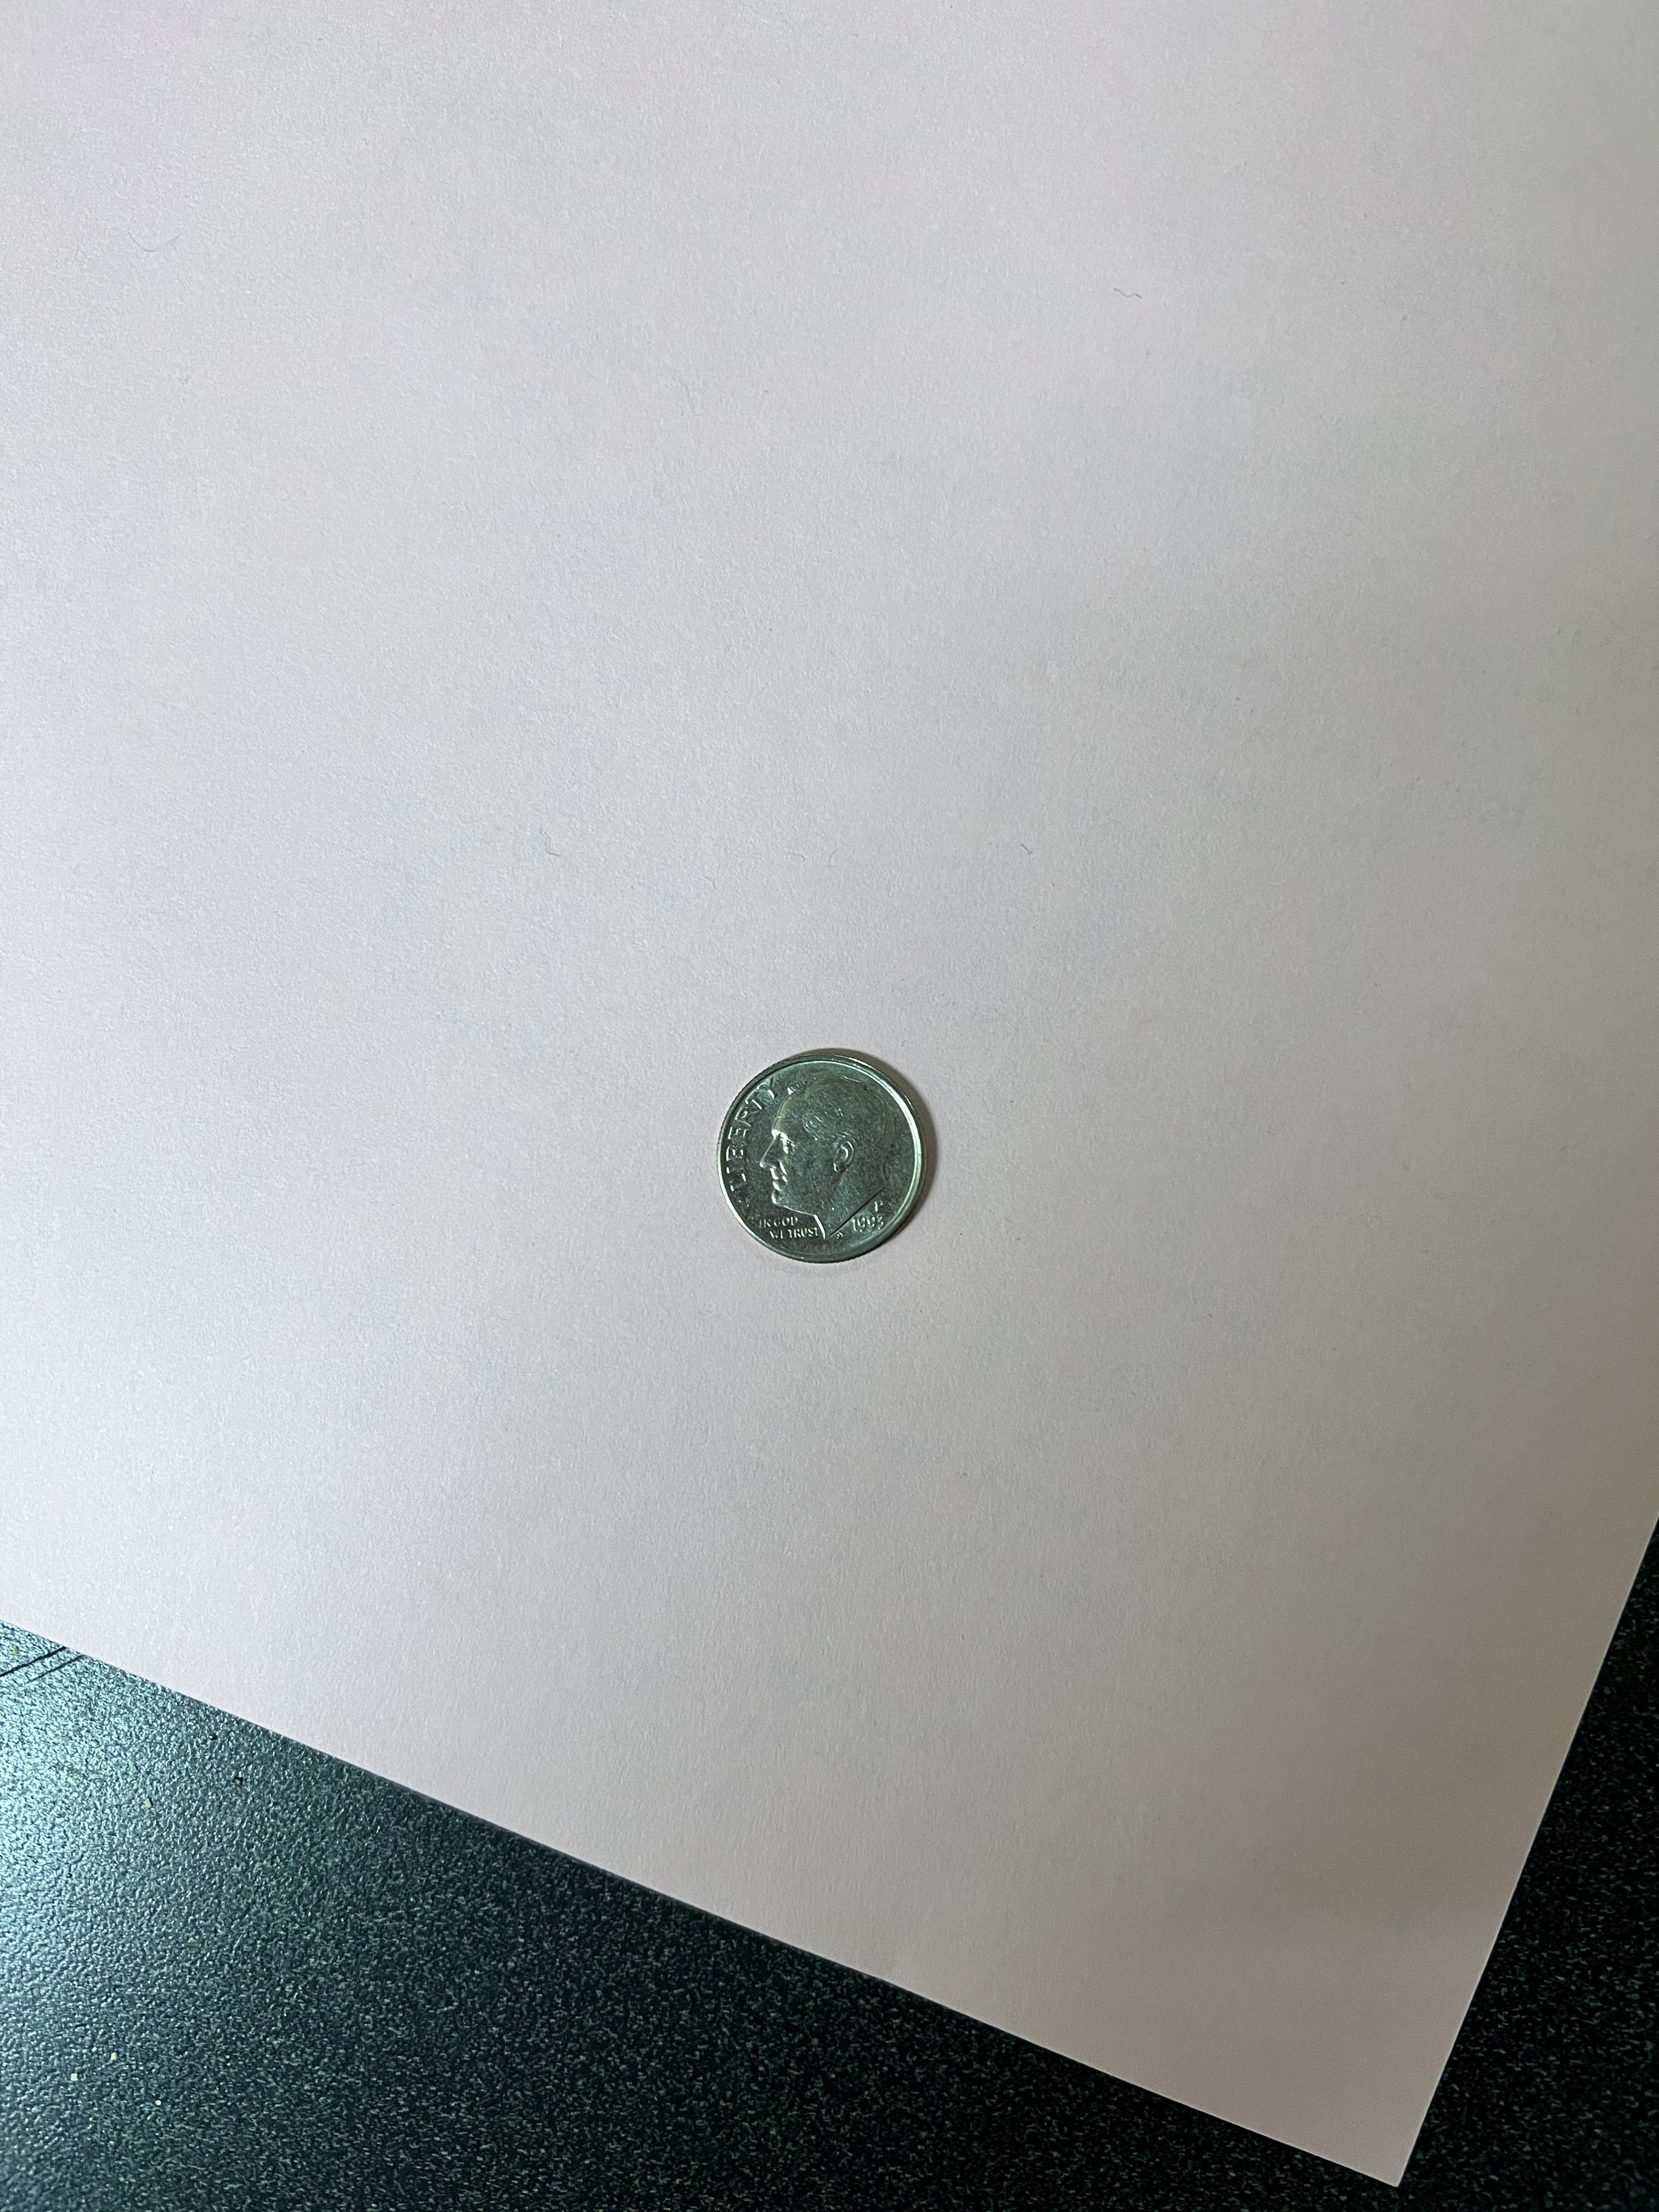Dime: (706, 1040, 955, 1270)
